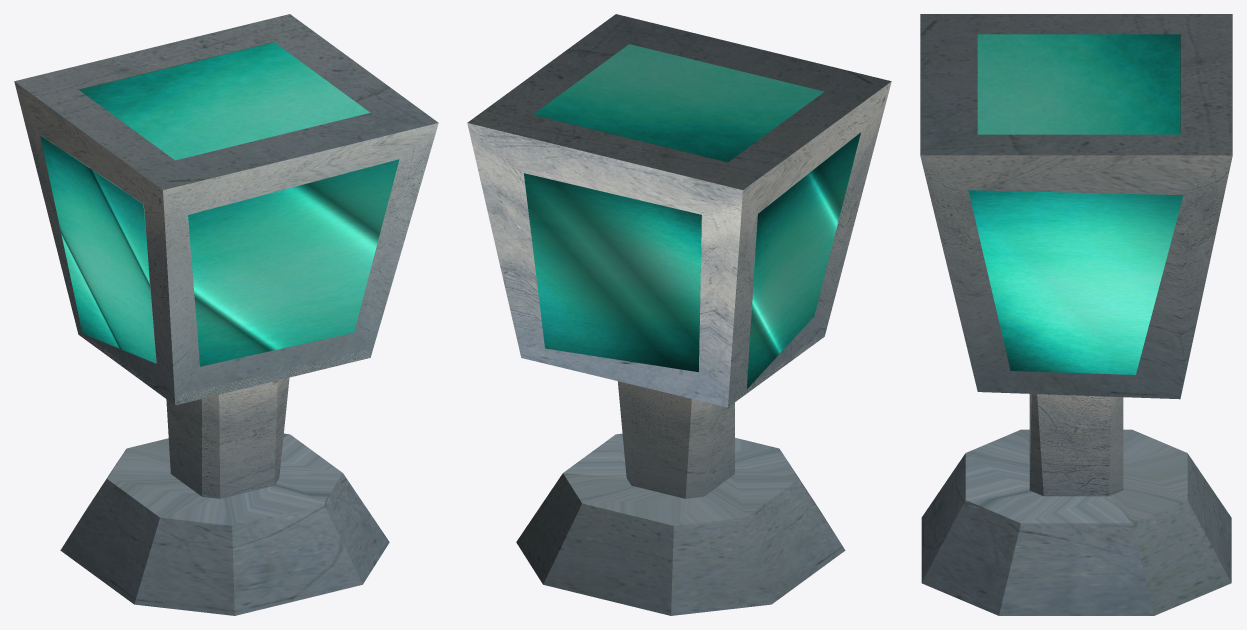
The model's file is Light_3.fbx.
The picture shows the model from 3 angles, left to right: view 1: azimuth 30°, elevation 25°; view 2: azimuth 150°, elevation 25°; view 3: azimuth 270°, elevation 25°; orthographic projection. The views are drawn at different scales.
Visible parts, largest first — view 1: light3; view 2: light3; view 3: light3.
Boxes of the visible parts, box(x1,y1,x2,y2) form: light3: box(14, 14, 438, 615); light3: box(467, 14, 891, 615); light3: box(920, 14, 1232, 615).
Bounding box in the file's own units: 28.58 × 43.96 × 26.7.
